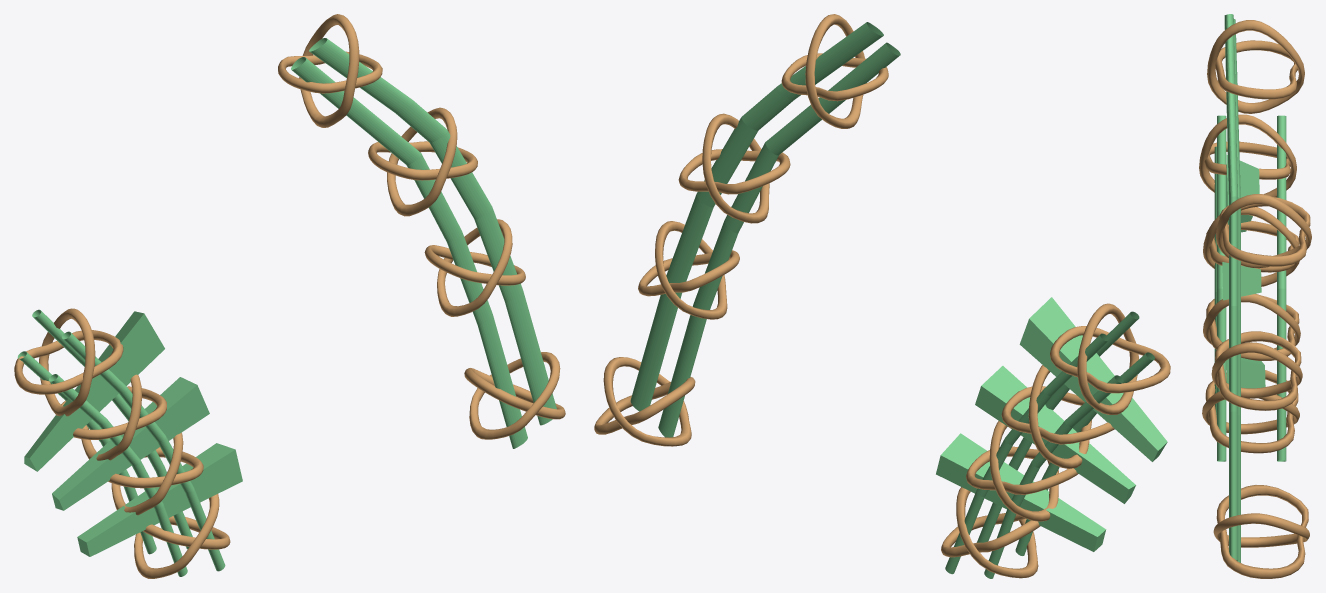
The model's file is Flute.fbx.
3 views of the same model, side by side, from view 1: azimuth 30°, elevation 25°; view 2: azimuth 150°, elevation 25°; view 3: azimuth 270°, elevation 25° (orthographic).
Parts seen in each view (by area): view 1: tie; view 2: tie; view 3: tie.
Part boxes in pixels (left/top/right/bottom): tie: left=14, top=14, right=565, bottom=578; tie: left=594, top=14, right=1170, bottom=578; tie: left=1199, top=14, right=1311, bottom=578.
Size of the model in its own units: 327 by 290 by 58.29.
